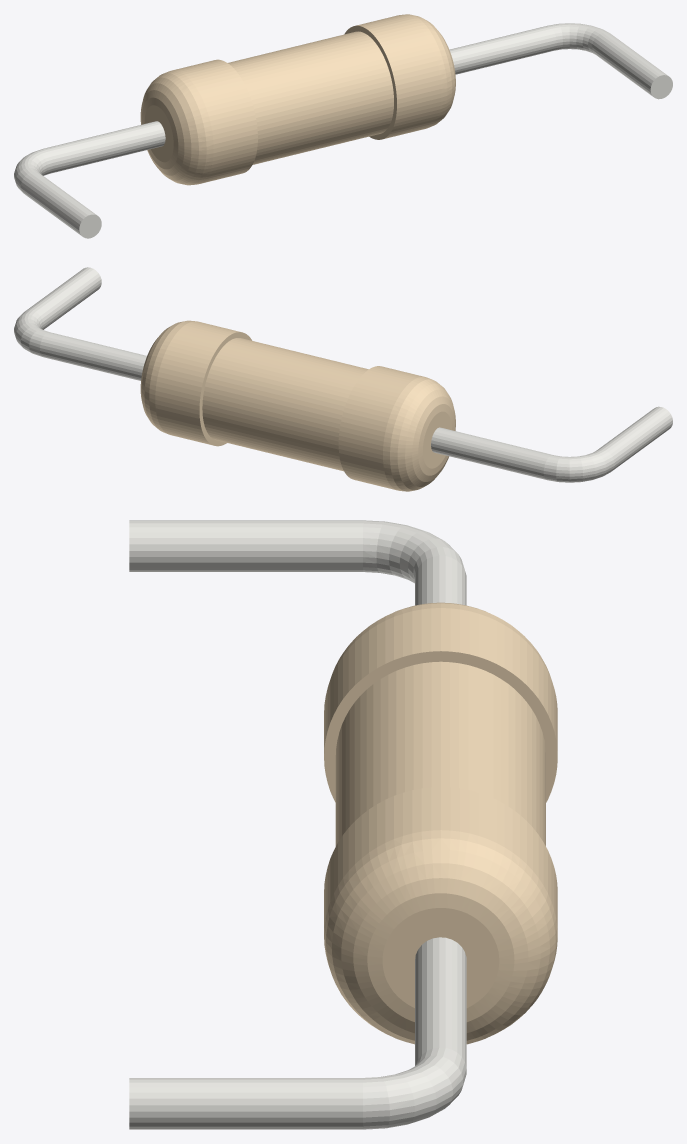
The model's file is R_Axial_DIN0411_L9.9mm_D3.6mm_P20.32mm_Horizontal.glb.
The picture shows the model from 3 angles, top to bottom: view 1: azimuth 30°, elevation 25°; view 2: azimuth 150°, elevation 25°; view 3: azimuth 270°, elevation 25°; orthographic projection. The views are drawn at different scales.
Visible parts, largest first — view 1: Shape_IndexedFaceSet.004, Shape_IndexedFaceSet.008, Shape_IndexedFaceSet, Shape_IndexedFaceSet.010, Shape_IndexedFaceSet.013, Shape_IndexedFaceSet.005, Shape_IndexedFaceSet.009, Shape_IndexedFaceSet.015, Shape_IndexedFaceSet.001, Shape_IndexedFaceSet.007, Shape_IndexedFaceSet.014, Shape_IndexedFaceSet.012 (+3 smaller); view 2: Shape_IndexedFaceSet.004, Shape_IndexedFaceSet, Shape_IndexedFaceSet.008, Shape_IndexedFaceSet.010, Shape_IndexedFaceSet.013, Shape_IndexedFaceSet.005, Shape_IndexedFaceSet.015, Shape_IndexedFaceSet.009, Shape_IndexedFaceSet.014, Shape_IndexedFaceSet.001, Shape_IndexedFaceSet.007, Shape_IndexedFaceSet.012 (+1 smaller); view 3: Shape_IndexedFaceSet.001, Shape_IndexedFaceSet.004, Shape_IndexedFaceSet.009, Shape_IndexedFaceSet.015, Shape_IndexedFaceSet, Shape_IndexedFaceSet.008, Shape_IndexedFaceSet.003, Shape_IndexedFaceSet.005, Shape_IndexedFaceSet.007, Shape_IndexedFaceSet.006, Shape_IndexedFaceSet.014, Shape_IndexedFaceSet.013 (+1 smaller).
Part boxes in pixels (box(x1,y1,x2,y2)): Shape_IndexedFaceSet.004: box(228, 31, 393, 164); Shape_IndexedFaceSet.008: box(172, 59, 257, 183); Shape_IndexedFaceSet: box(355, 15, 441, 139); Shape_IndexedFaceSet.010: box(140, 70, 213, 185); Shape_IndexedFaceSet.013: box(44, 121, 165, 173); Shape_IndexedFaceSet.005: box(449, 25, 556, 74); Shape_IndexedFaceSet.009: box(592, 32, 667, 96); Shape_IndexedFaceSet.015: box(21, 171, 97, 235); Shape_IndexedFaceSet.001: box(402, 14, 455, 127); Shape_IndexedFaceSet.007: box(548, 23, 608, 54); Shape_IndexedFaceSet.014: box(14, 148, 52, 191); Shape_IndexedFaceSet.012: box(144, 105, 173, 162); Shape_IndexedFaceSet.004: box(202, 338, 368, 471); Shape_IndexedFaceSet: box(155, 321, 241, 445); Shape_IndexedFaceSet.008: box(338, 366, 424, 490); Shape_IndexedFaceSet.010: box(383, 377, 455, 491); Shape_IndexedFaceSet.013: box(431, 427, 551, 479); Shape_IndexedFaceSet.005: box(40, 332, 146, 380); Shape_IndexedFaceSet.015: box(596, 406, 672, 470); Shape_IndexedFaceSet.009: box(26, 267, 101, 329); Shape_IndexedFaceSet.014: box(543, 449, 614, 482); Shape_IndexedFaceSet.001: box(140, 320, 194, 433); Shape_IndexedFaceSet.007: box(14, 310, 48, 356); Shape_IndexedFaceSet.012: box(423, 411, 451, 468); Shape_IndexedFaceSet.001: box(324, 830, 557, 1044); Shape_IndexedFaceSet.004: box(335, 661, 545, 846); Shape_IndexedFaceSet.009: box(129, 1078, 362, 1129); Shape_IndexedFaceSet.015: box(129, 520, 362, 571); Shape_IndexedFaceSet: box(324, 787, 557, 932); Shape_IndexedFaceSet.008: box(324, 608, 557, 753); Shape_IndexedFaceSet.003: box(382, 908, 499, 1007); Shape_IndexedFaceSet.005: box(415, 937, 466, 1066); Shape_IndexedFaceSet.007: box(363, 1047, 466, 1129); Shape_IndexedFaceSet.006: box(324, 651, 557, 802); Shape_IndexedFaceSet.014: box(363, 520, 464, 583); Shape_IndexedFaceSet.013: box(415, 555, 466, 605).
Bounding box in the file's own units: 8.31 × 1.42 × 2.6.
